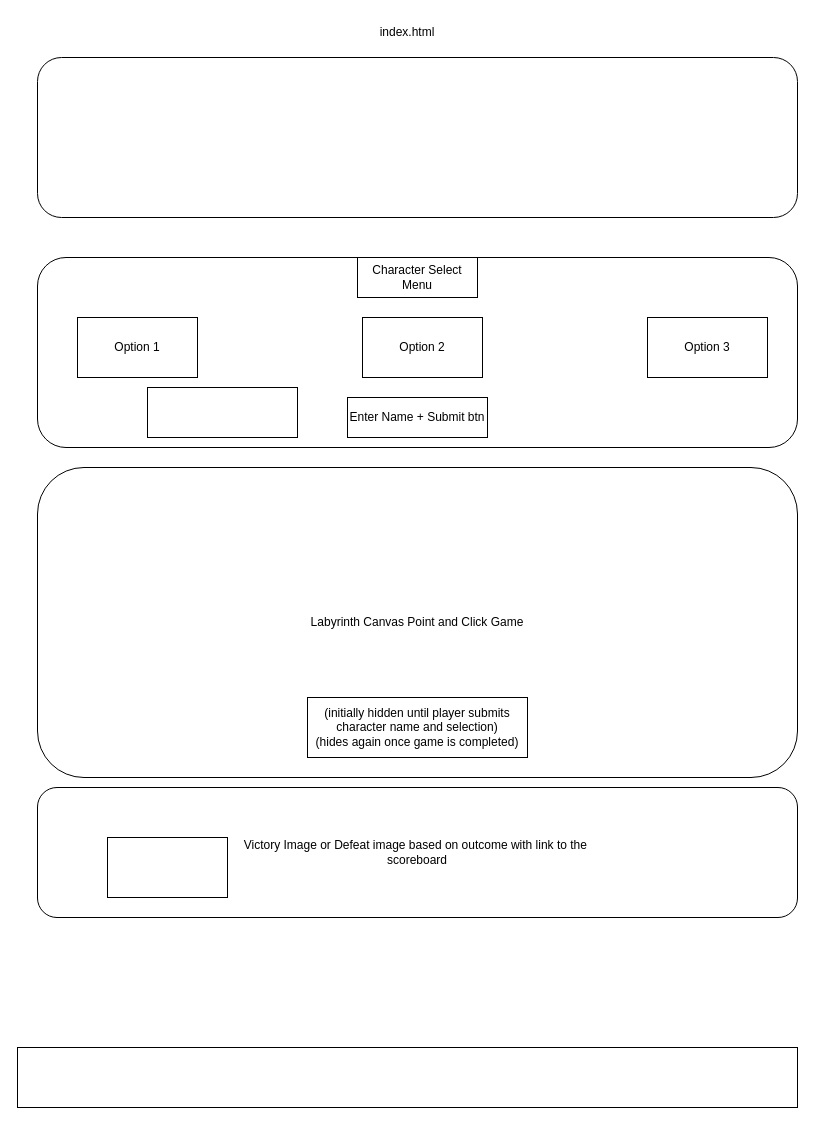
This 815x1125 diagram has some shape labels left out. The centre of each missing label's shape, as x and y in pixels:
"(hidden until game is completed)" goes at (167,867).
"(note: this portion hides after Submit clicked)" goes at (222,412).
"Footer w/ contact info" goes at (407,1077).
"Site Title" goes at (417,137).
